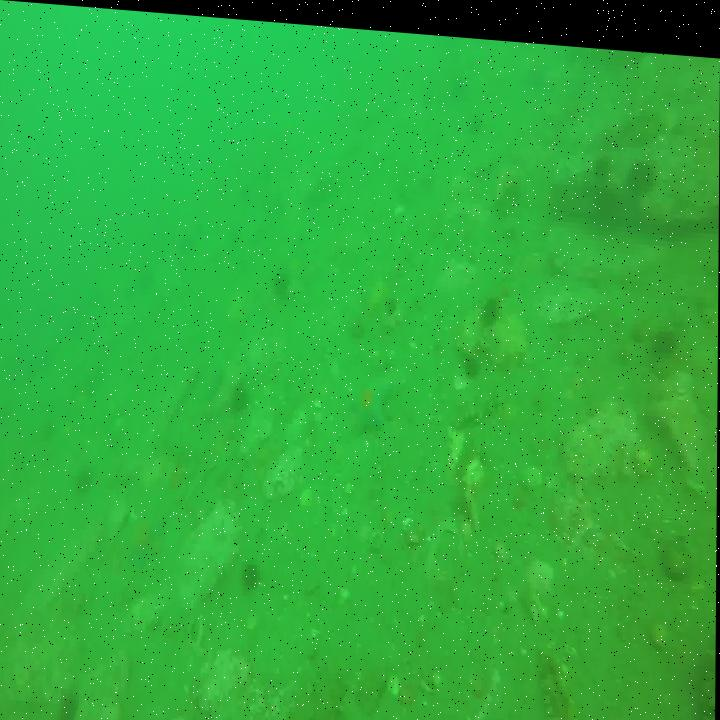echinus: (631, 146, 657, 184), (478, 283, 501, 321), (653, 312, 677, 344), (230, 375, 248, 411), (242, 557, 264, 586)
holothurian: (538, 635, 583, 720), (453, 372, 507, 432)
starfish: (358, 367, 391, 431)
